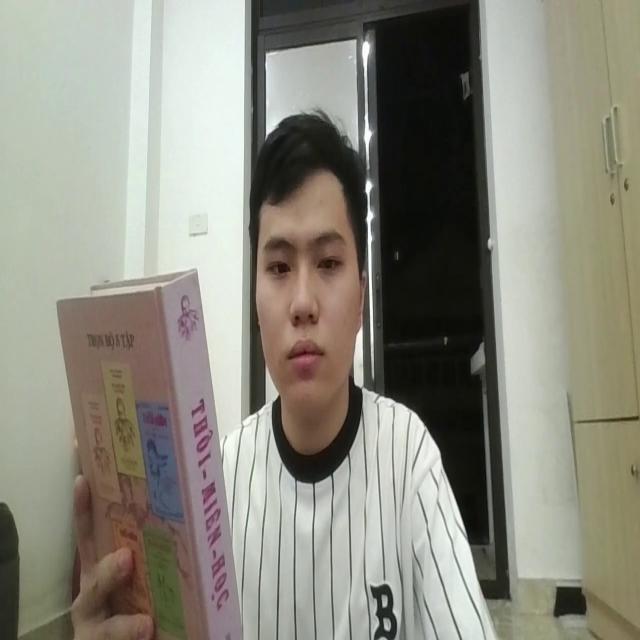book: (57, 250, 238, 640)
student: (220, 99, 503, 640)
